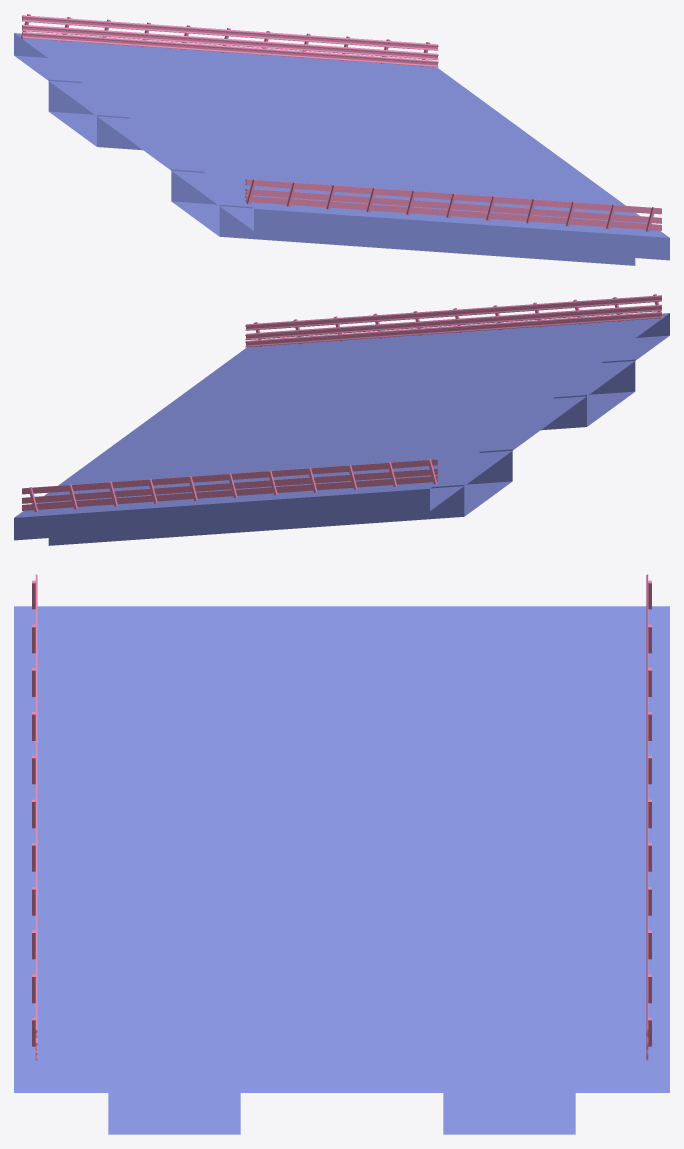
File: RoadRechtUpDown.fbx
3 views of the same model, one above another, from view 1: azimuth 30°, elevation 25°; view 2: azimuth 150°, elevation 25°; view 3: azimuth 270°, elevation 25° (orthographic). The views are drawn at different scales.
Visible parts, largest first — view 1: RoadRecht.002, RailingAppart.001; view 2: RoadRecht.002, RailingAppart.001; view 3: RoadRecht.002, RailingAppart.001.
Boxes of the visible parts, x1,y1,x2,y2 form: RoadRecht.002: [14, 33, 669, 265]; RailingAppart.001: [21, 14, 661, 231]; RoadRecht.002: [14, 313, 669, 545]; RailingAppart.001: [22, 294, 662, 511]; RoadRecht.002: [14, 606, 669, 1134]; RailingAppart.001: [32, 574, 651, 1060].
Size of the model in its own units: 2000 by 953 by 2000.
